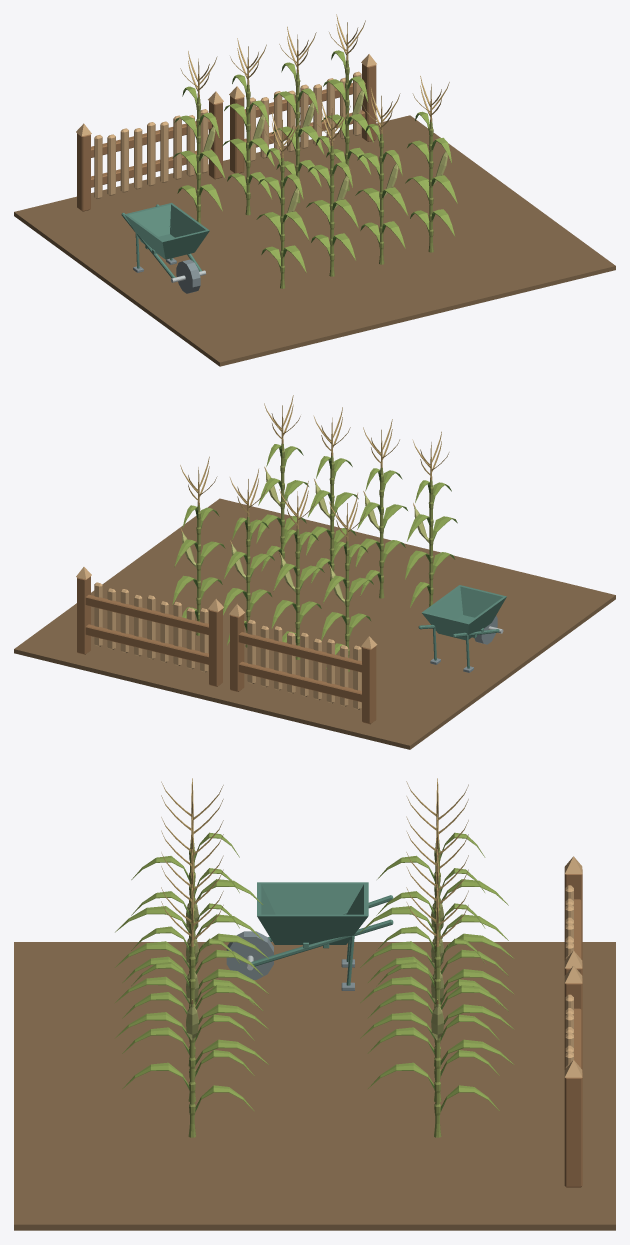
3 renders of one model, top to bottom at view 1: azimuth 30°, elevation 25°; view 2: azimuth 150°, elevation 25°; view 3: azimuth 270°, elevation 25°, orthographic. The views are drawn at different scales.
Visible parts, largest first — view 1: SCENE_ONLY__SoilGround, fence_west__village-fence-straight-01, fence_east__village-fence-straight-01, parked_barrow__construction-wheelbarrow-01, maize_r1_p1__ContinuousMatureMaize, maize_r1_p3__ContinuousMatureMaize, maize_r1_p2__ContinuousMatureMaize, maize_r1_p4__ContinuousMatureMaize, maize_r2_p1__ContinuousMatureMaize, maize_r2_p2__ContinuousMatureMaize, maize_r2_p3__ContinuousMatureMaize, maize_r2_p4__ContinuousMatureMaize; view 2: SCENE_ONLY__SoilGround, fence_west__village-fence-straight-01, fence_east__village-fence-straight-01, parked_barrow__construction-wheelbarrow-01, maize_r1_p1__ContinuousMatureMaize, maize_r1_p2__ContinuousMatureMaize, maize_r1_p4__ContinuousMatureMaize, maize_r1_p3__ContinuousMatureMaize, maize_r2_p2__ContinuousMatureMaize, maize_r2_p1__ContinuousMatureMaize, maize_r2_p4__ContinuousMatureMaize, maize_r2_p3__ContinuousMatureMaize; view 3: SCENE_ONLY__SoilGround, parked_barrow__construction-wheelbarrow-01, maize_r1_p4__ContinuousMatureMaize, maize_r2_p4__ContinuousMatureMaize, fence_east__village-fence-straight-01, maize_r2_p3__ContinuousMatureMaize, maize_r1_p3__ContinuousMatureMaize, maize_r2_p2__ContinuousMatureMaize, maize_r1_p2__ContinuousMatureMaize, maize_r1_p1__ContinuousMatureMaize, maize_r2_p1__ContinuousMatureMaize, fence_west__village-fence-straight-01.
Boxes of the visible parts, x1,y1,x2,y2 form: SCENE_ONLY__SoilGround: (14,115,615,366); fence_west__village-fence-straight-01: (76,91,223,211); fence_east__village-fence-straight-01: (229,54,376,173); parked_barrow__construction-wheelbarrow-01: (121,203,209,293); maize_r1_p1__ContinuousMatureMaize: (256,112,309,288); maize_r1_p3__ContinuousMatureMaize: (355,88,408,264); maize_r1_p2__ContinuousMatureMaize: (306,100,358,276); maize_r1_p4__ContinuousMatureMaize: (405,76,457,252); maize_r2_p1__ContinuousMatureMaize: (172,51,225,223); maize_r2_p2__ContinuousMatureMaize: (222,38,274,215); maize_r2_p3__ContinuousMatureMaize: (272,26,324,203); maize_r2_p4__ContinuousMatureMaize: (321,14,373,191); SCENE_ONLY__SoilGround: (14,498,615,749); fence_west__village-fence-straight-01: (229,604,377,724); fence_east__village-fence-straight-01: (76,567,223,686); parked_barrow__construction-wheelbarrow-01: (418,585,506,672); maize_r1_p1__ContinuousMatureMaize: (405,431,457,607); maize_r1_p2__ContinuousMatureMaize: (355,419,407,598); maize_r1_p4__ContinuousMatureMaize: (256,395,308,571); maize_r1_p3__ContinuousMatureMaize: (306,407,358,583); maize_r2_p2__ContinuousMatureMaize: (271,481,324,659); maize_r2_p1__ContinuousMatureMaize: (321,493,373,671); maize_r2_p4__ContinuousMatureMaize: (172,456,225,635); maize_r2_p3__ContinuousMatureMaize: (223,469,274,647); SCENE_ONLY__SoilGround: (14,942,615,1230); parked_barrow__construction-wheelbarrow-01: (226,882,393,990); maize_r1_p4__ContinuousMatureMaize: (115,884,268,1137); maize_r2_p4__ContinuousMatureMaize: (360,884,513,1137); fence_east__village-fence-straight-01: (564,965,582,1187); maize_r2_p3__ContinuousMatureMaize: (360,849,513,1101); maize_r1_p3__ContinuousMatureMaize: (115,849,268,1101); maize_r2_p2__ContinuousMatureMaize: (360,813,513,1066); maize_r1_p2__ContinuousMatureMaize: (115,813,268,1066); maize_r1_p1__ContinuousMatureMaize: (115,778,268,1005); maize_r2_p1__ContinuousMatureMaize: (360,778,513,1004); fence_west__village-fence-straight-01: (564,856,582,977).
Size of the model in its own units: 6 by 2.53 by 5.4.
